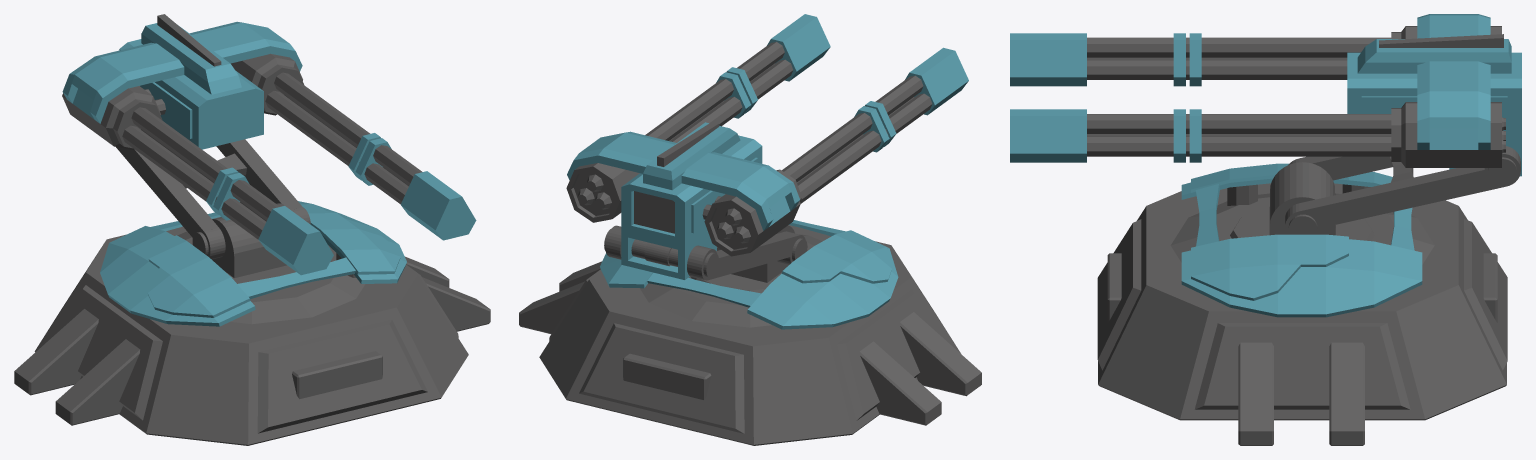
File: Turret2Animation.fbx
3 views of the same model, side by side, from view 1: azimuth 30°, elevation 25°; view 2: azimuth 150°, elevation 25°; view 3: azimuth 270°, elevation 25° (orthographic). The views are drawn at different scales.
Parts seen in each view (by area): view 1: Cube.003, Turret2, Cube.029, Cube.010, Cube.002, Cube.023; view 2: Cube.003, Cube.029, Turret2, Cube.010, Cube.002, Cube.023; view 3: Cube.003, Turret2, Cube.029, Cube.002, Cube.010, Cube.023.
Boxes of the visible parts, x1,y1,x2,y2 form: Cube.003: (14,217,490,445); Turret2: (100,201,406,326); Cube.029: (62,14,303,150); Cube.010: (122,107,333,275); Cube.002: (265,72,476,240); Cube.023: (116,139,310,259); Cube.003: (519,225,981,445); Cube.029: (566,122,801,279); Turret2: (600,220,898,329); Cube.010: (716,47,968,243); Cube.002: (577,14,830,209); Cube.023: (604,225,807,280); Cube.003: (1097,183,1507,445); Turret2: (1170,162,1434,317); Cube.029: (1347,14,1521,176); Cube.002: (1010,109,1505,162); Cube.010: (1010,33,1391,86); Cube.023: (1285,146,1520,234).
Size of the model in its own units: 199 by 123 by 191.
